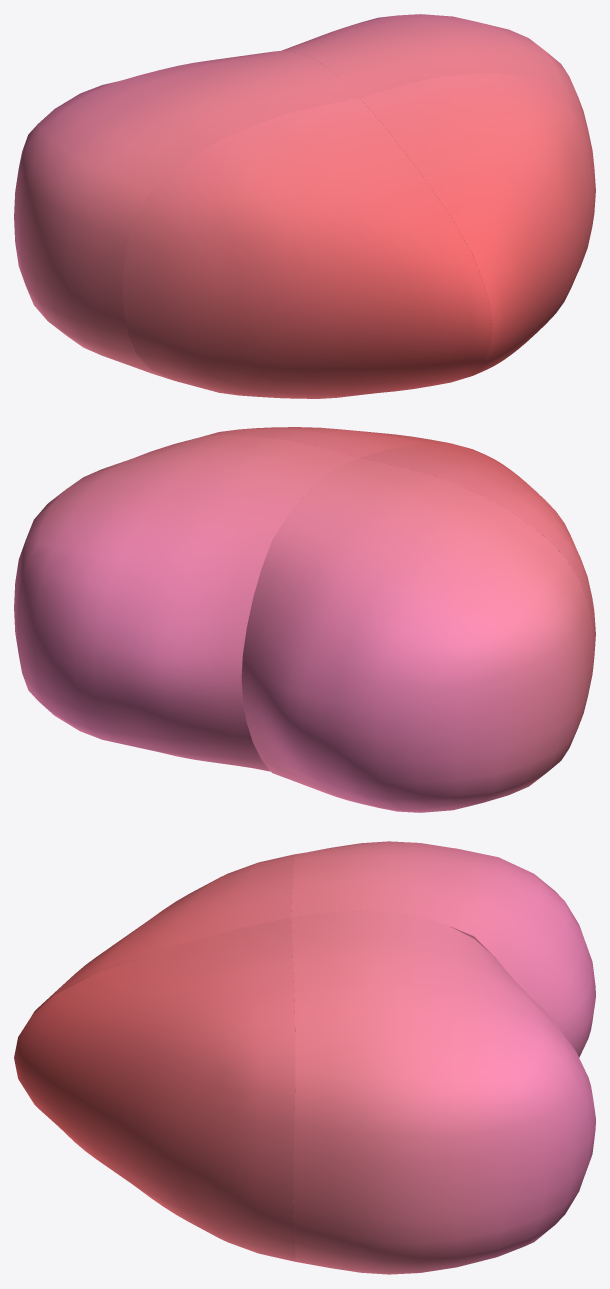
The model's file is level_1.fbx.
The picture shows the model from 3 angles, top to bottom: view 1: azimuth 30°, elevation 25°; view 2: azimuth 150°, elevation 25°; view 3: azimuth 270°, elevation 25°; orthographic projection. The views are drawn at different scales.
Parts seen in each view (by area): view 1: Cube.001, Cube.002, Cube.004, Cube.003; view 2: Cube.002, Cube.003, Cube.001, Cube.004; view 3: Cube.003, Cube.004, Cube.002, Cube.001.
Boxes of the visible parts, <box> form: Cube.001: <box>123,98,492,398</box>; Cube.002: <box>14,50,359,379</box>; Cube.004: <box>360,72,595,375</box>; Cube.003: <box>282,14,587,126</box>; Cube.002: <box>241,458,593,812</box>; Cube.003: <box>14,435,359,771</box>; Cube.001: <box>360,443,595,671</box>; Cube.004: <box>200,427,449,457</box>; Cube.003: <box>291,911,595,1274</box>; Cube.004: <box>14,917,295,1261</box>; Cube.002: <box>291,841,595,1057</box>; Cube.001: <box>32,854,294,1015</box>.
Size of the model in its own units: 7.69 by 3.94 by 7.04.
